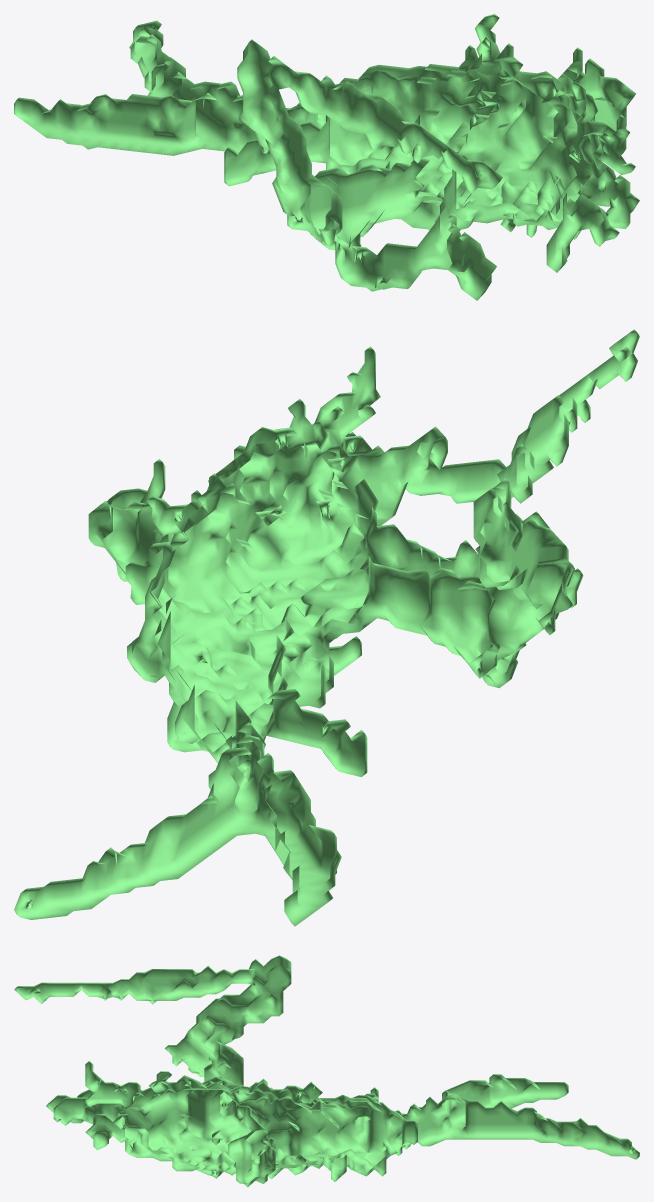
Rendered from osteocyte_20.glb.
3 views of the same model, one above another, from view 1: azimuth 30°, elevation 25°; view 2: azimuth 150°, elevation 25°; view 3: azimuth 270°, elevation 25° (orthographic). The views are drawn at different scales.
Visible parts, largest first — view 1: osteocyte_20; view 2: osteocyte_20; view 3: osteocyte_20.
Part boxes in pixels (x1=…): osteocyte_20: x1=14, y1=14, x2=639, y2=300; osteocyte_20: x1=14, y1=329, x2=639, y2=926; osteocyte_20: x1=14, y1=955, x2=639, y2=1187.
Bounding box in the file's own units: 19.74 × 10.11 × 38.04.
